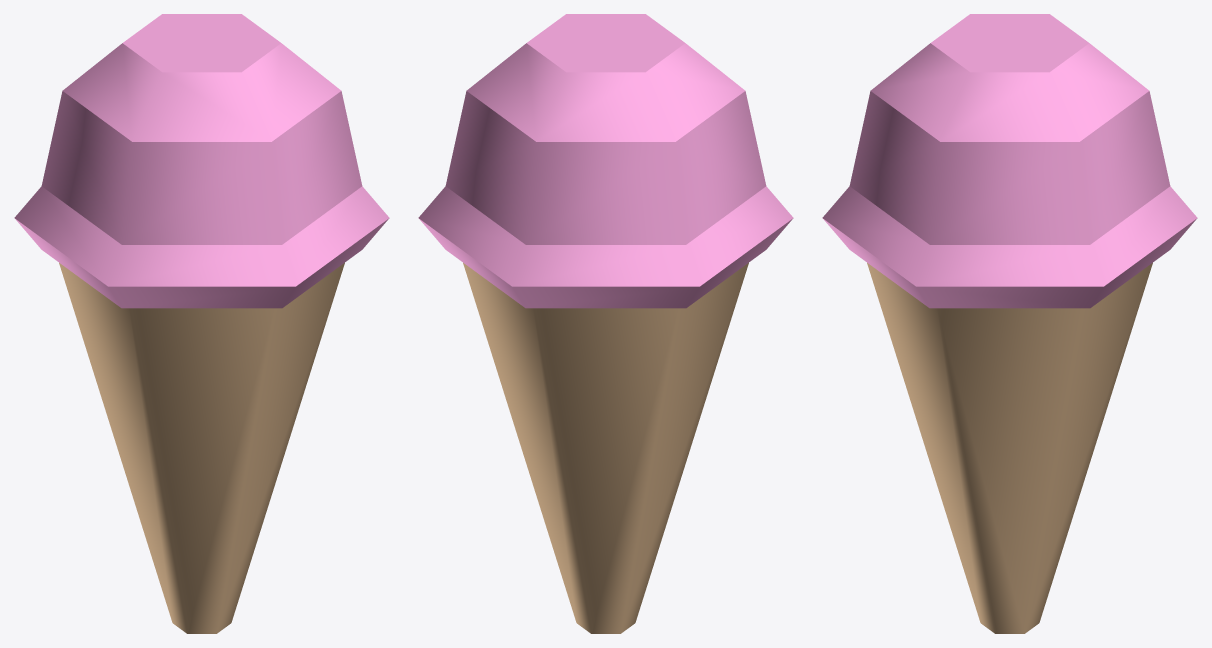
File: Ice Cream.glb
3 views of the same model, side by side, from view 1: azimuth 30°, elevation 25°; view 2: azimuth 150°, elevation 25°; view 3: azimuth 270°, elevation 25° (orthographic).
Parts seen in each view (by area): view 1: iceCream; view 2: iceCream; view 3: iceCream.
Boxes of the visible parts, x1,y1,x2,y2 form: iceCream: (14, 14, 389, 633); iceCream: (418, 14, 793, 633); iceCream: (822, 14, 1197, 633).
Size of the model in its own units: 0.2352 by 0.4632 by 0.2716.
